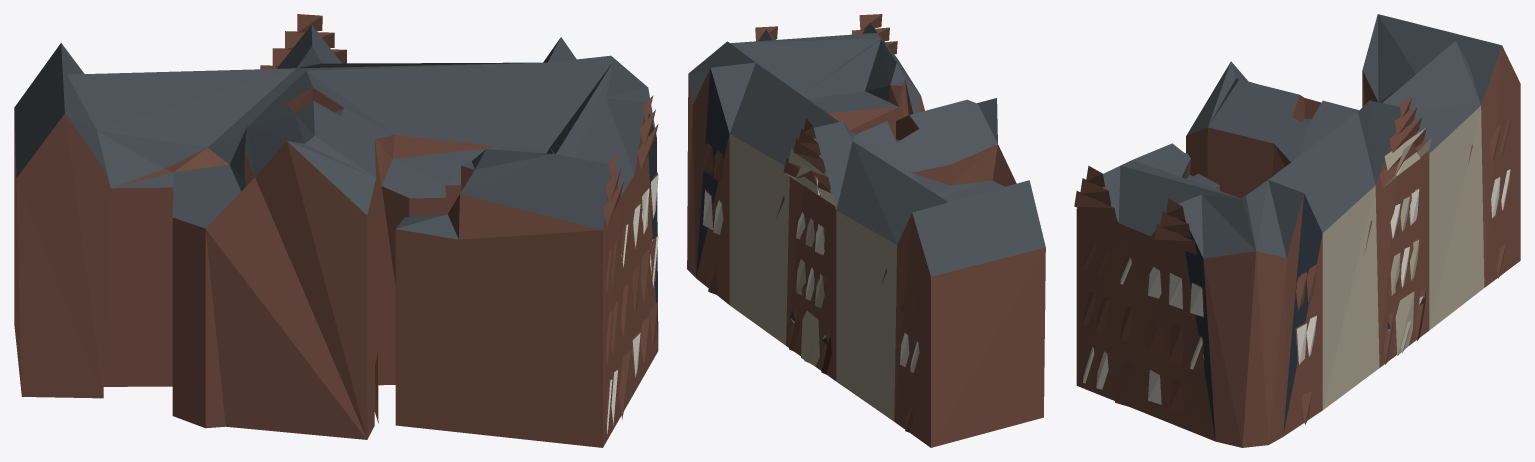
Rendered from kweekschool-zeevaart.lod2.glb.
3 renders of one model, left to right at view 1: azimuth 30°, elevation 25°; view 2: azimuth 150°, elevation 25°; view 3: azimuth 270°, elevation 25°, orthographic. The views are drawn at different scales.
Visible parts, largest first — view 1: lod2; view 2: lod2; view 3: lod2.
Boxes of the visible parts, box(x1,y1,x2,y2) form: lod2: box(14, 14, 658, 447); lod2: box(687, 14, 1045, 447); lod2: box(1074, 14, 1520, 447).
Bounding box in the file's own units: 43.38 × 23.4 × 37.92.
